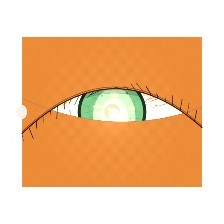corneal_ulcer: (84, 92, 145, 141)
